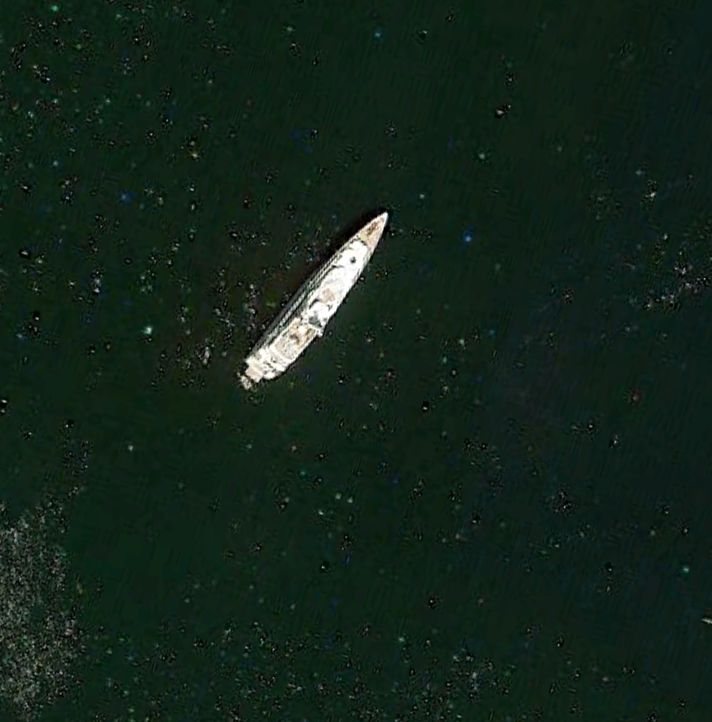boat: (238, 208, 392, 388)
